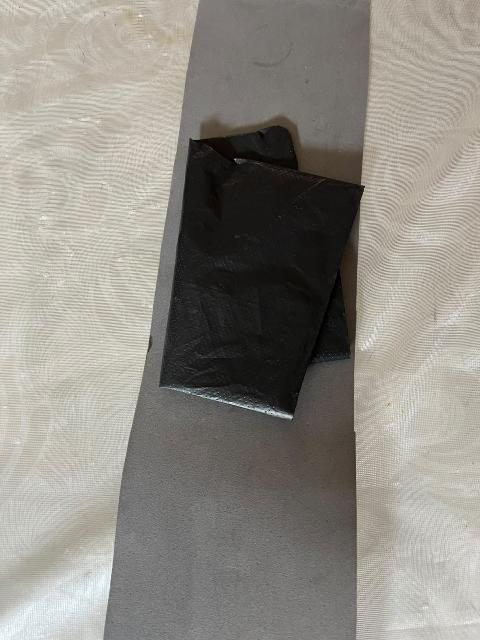LDPE: (143, 103, 381, 439)
